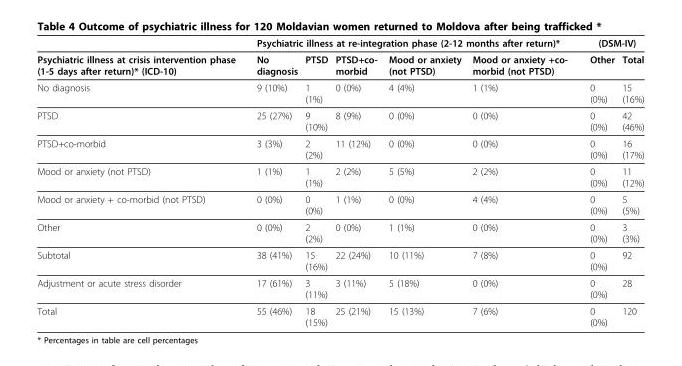table: (36, 36, 643, 327)
table column: (36, 36, 245, 327), (466, 36, 578, 327), (382, 36, 466, 327), (245, 36, 300, 327), (330, 36, 382, 327), (578, 36, 617, 327), (300, 36, 330, 327), (617, 36, 643, 327)
table column header: (36, 36, 643, 78)
table row: (36, 50, 643, 78), (36, 78, 643, 106), (36, 106, 643, 134), (36, 134, 643, 162), (36, 162, 643, 190), (36, 190, 643, 218), (36, 218, 643, 246), (36, 246, 643, 274), (36, 274, 643, 302), (36, 302, 643, 327), (36, 36, 643, 50)
table spanning cell: (36, 36, 245, 78), (245, 36, 578, 50), (578, 36, 643, 50)
